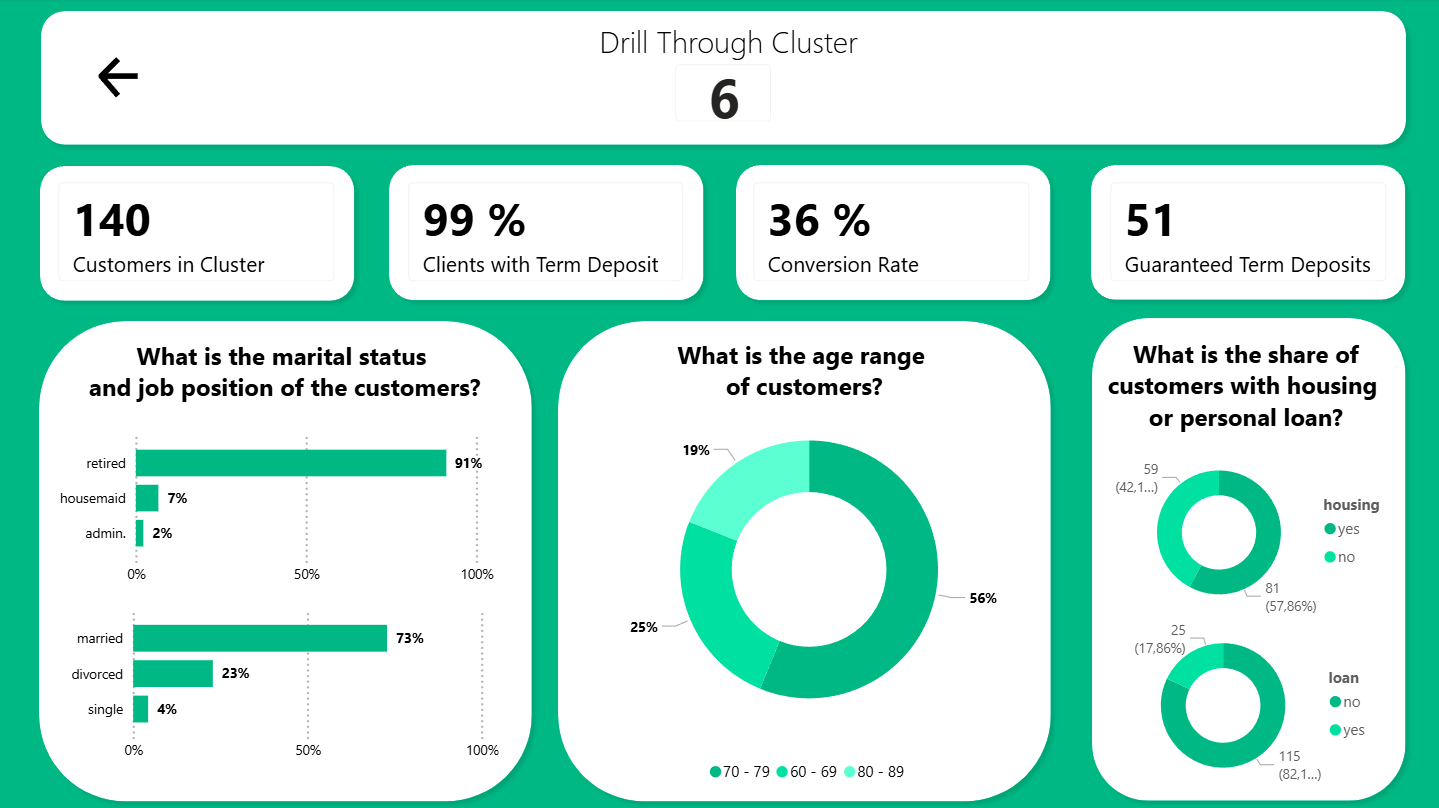

The dashboard page shown, as its layout file describes it:
{"tool":"powerbi","page":{"name":"Cluster Drill","canvas":[1280,720],"ordinal":3},"visuals":[{"type":"shape","box":[0,0,1280,720],"z":0},{"type":"shape","box":[30,3.6,1226.4,134.5],"z":1000},{"type":"shape","box":[962,276,294,444],"z":2000},{"type":"shape","box":[489,278,453,442],"z":3000},{"type":"actionButton","box":[85.1,48.1,46,45],"z":4000},{"type":"cardVisual","fields":{"Data":["Max(results.Cluster)"]},"box":[583.6,41.8,120,85.5],"z":5000},{"type":"textbox","box":[44.5,15.5,1207.3,51.8],"z":6000},{"type":"shape","box":[28,278,453,442],"z":7000},{"type":"shape","box":[29,140.8,294.5,135.5],"z":8000},{"type":"shape","box":[960.8,139.9,294.5,135.5],"z":9000},{"type":"shape","box":[338.7,140.5,294.7,135.8],"z":10000},{"type":"shape","box":[646.1,140.5,294.7,135.8],"z":11000},{"type":"cardVisual","fields":{"Data":["CountNonNull(bank_cluster.cluster)"]},"box":[36,146,279,122],"z":12000},{"type":"cardVisual","fields":{"Data":["Median(results.conversion_rate)"]},"box":[653,146,279,122],"z":13000},{"type":"cardVisual","fields":{"Data":["Median(results.n_customers)"]},"box":[969,146,279,122],"z":14000},{"type":"cardVisual","fields":{"Data":["Median(results.y_ratio)"]},"box":[347,146,278,122],"z":15000},{"type":"barChart","fields":{"Category":["bank_cluster.marital"],"Y":["CountNonNull(bank_cluster.marital)"]},"box":[56,530,393,155],"z":16000},{"type":"barChart","fields":{"Category":["bank_cluster.job"],"Y":["CountNonNull(bank_cluster.job)"]},"box":[45,375,404,154],"z":17000},{"type":"donutChart","fields":{"Y":["CountNonNull(bank_cluster.age)"],"Category":["bank_cluster.age_range"]},"box":[515,338,408,367],"z":18000},{"type":"donutChart","fields":{"Category":["bank_cluster.housing"],"Y":["CountNonNull(bank_cluster.housing)"]},"box":[985,388,265,171],"z":19000},{"type":"donutChart","fields":{"Category":["bank_cluster.loan"],"Y":["CountNonNull(bank_cluster.loan)"]},"box":[988,542,245,171],"z":20000},{"type":"textbox","box":[963,295,287,119],"z":21000},{"type":"textbox","box":[37,297,434,71],"z":22000},{"type":"textbox","box":[497,296,435,73],"z":23000}]}

Visuals, with their boxes in screenshot pixels (x1, y1, x2, y2), scaled from the page's 1280x720 canvas onto the 1439x808 screenshot:
shape: [0, 0, 1438, 807]
shape: [34, 4, 1412, 155]
shape: [1081, 310, 1412, 807]
shape: [550, 312, 1059, 807]
actionButton: [96, 54, 147, 104]
cardVisual - Max(results.Cluster): [656, 47, 791, 143]
textbox: [50, 17, 1407, 76]
shape: [31, 312, 541, 807]
shape: [33, 158, 364, 310]
shape: [1080, 157, 1411, 309]
shape: [381, 158, 712, 310]
shape: [726, 158, 1058, 310]
cardVisual - CountNonNull(bank_cluster.cluster): [40, 164, 354, 301]
cardVisual - Median(results.conversion_rate): [734, 164, 1048, 301]
cardVisual - Median(results.n_customers): [1089, 164, 1403, 301]
cardVisual - Median(results.y_ratio): [390, 164, 703, 301]
barChart - bank_cluster.marital x CountNonNull(bank_cluster.marital): [63, 595, 505, 769]
barChart - bank_cluster.job x CountNonNull(bank_cluster.job): [51, 421, 505, 594]
donutChart - CountNonNull(bank_cluster.age) x bank_cluster.age_range: [579, 379, 1038, 791]
donutChart - bank_cluster.housing x CountNonNull(bank_cluster.housing): [1107, 435, 1405, 627]
donutChart - bank_cluster.loan x CountNonNull(bank_cluster.loan): [1111, 608, 1386, 800]
textbox: [1083, 331, 1405, 465]
textbox: [42, 333, 530, 413]
textbox: [559, 332, 1048, 414]
